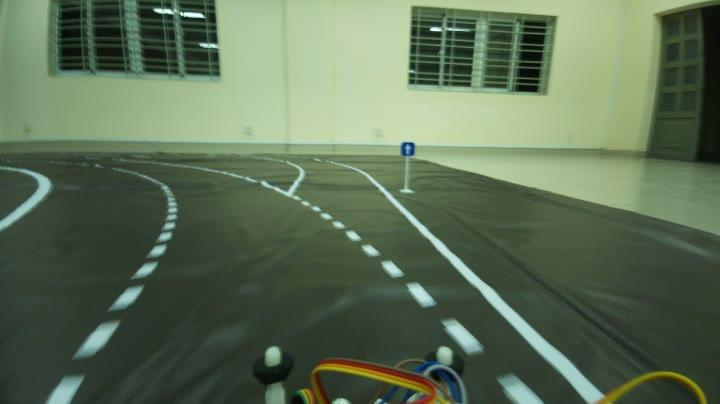onewayroad: (400, 140, 417, 156)
